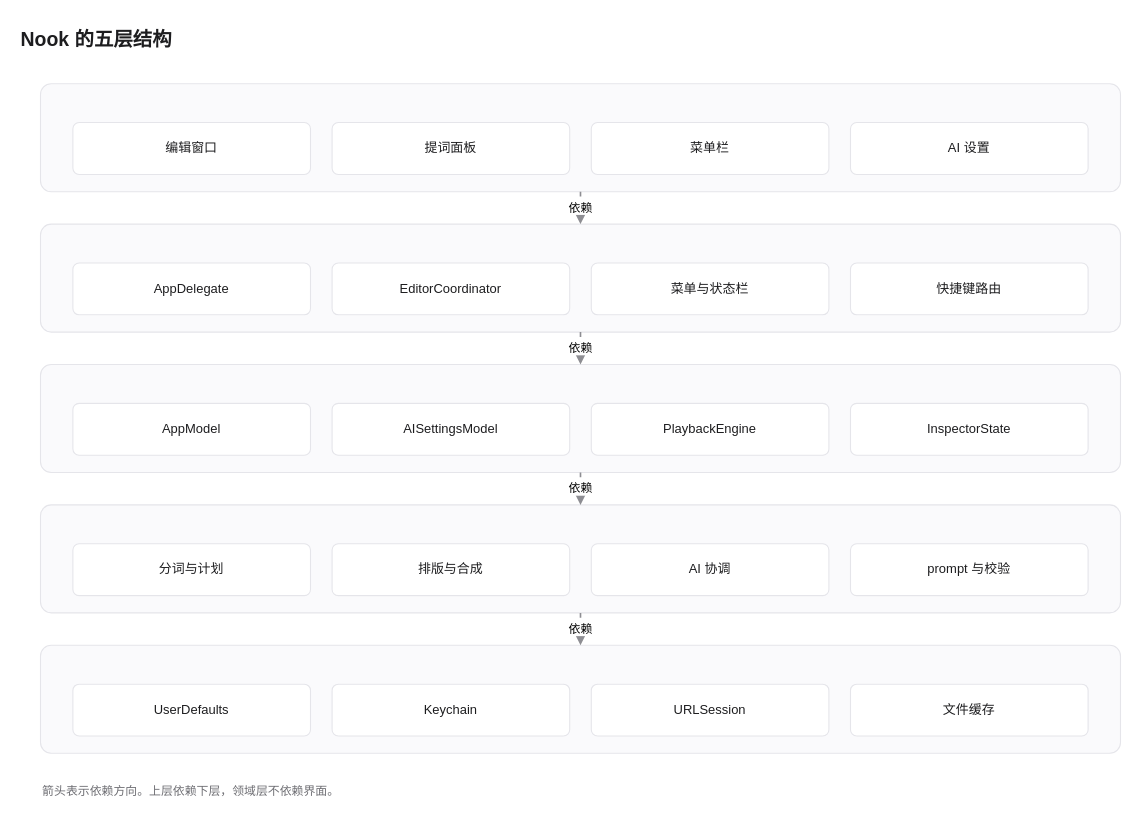
This 1139x825 diagram has some shape labels left out. Each missing label, with the box of its shape:
基础设施 · 系统能力: (39, 644, 1120, 753)
控制器层 · 组装窗口与命令: (39, 223, 1120, 332)
状态层 · 保存可观察状态: (39, 363, 1120, 473)
界面层 · 只负责显示和输入: (39, 83, 1120, 192)
领域层 · NookKit 纯逻辑: (39, 504, 1120, 613)
